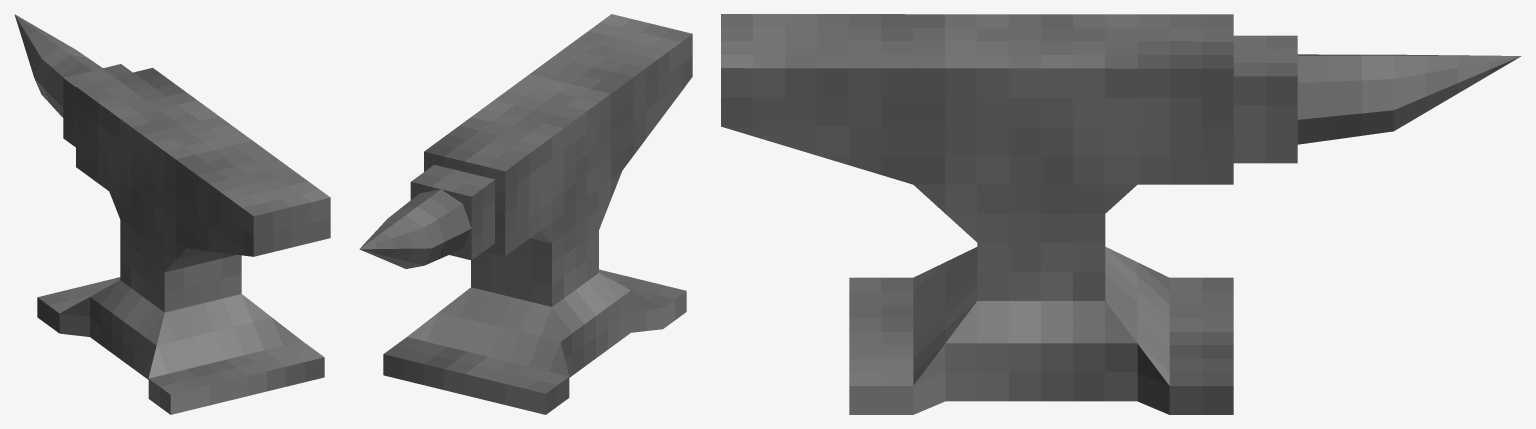
The model's file is anvil.obj.
3 views of the same model, side by side, from view 1: azimuth 30°, elevation 25°; view 2: azimuth 150°, elevation 25°; view 3: azimuth 270°, elevation 25° (orthographic). The views are drawn at different scales.
Parts seen in each view (by area): view 1: Left, Top, Back; view 2: Left, Top, Front; view 3: Right, Top, Front, Back.
Part boxes in pixels (x1,y1,x2,y2): Left: (15, 15, 253, 414); Top: (14, 14, 330, 394); Back: (148, 197, 330, 414); Left: (360, 34, 692, 414); Top: (360, 14, 692, 393); Front: (383, 151, 569, 414); Right: (721, 56, 1520, 414); Top: (721, 14, 1520, 385); Front: (1105, 247, 1169, 385); Back: (913, 247, 977, 385).
Size of the model in its own units: 0.5 by 0.6885 by 1.56.
